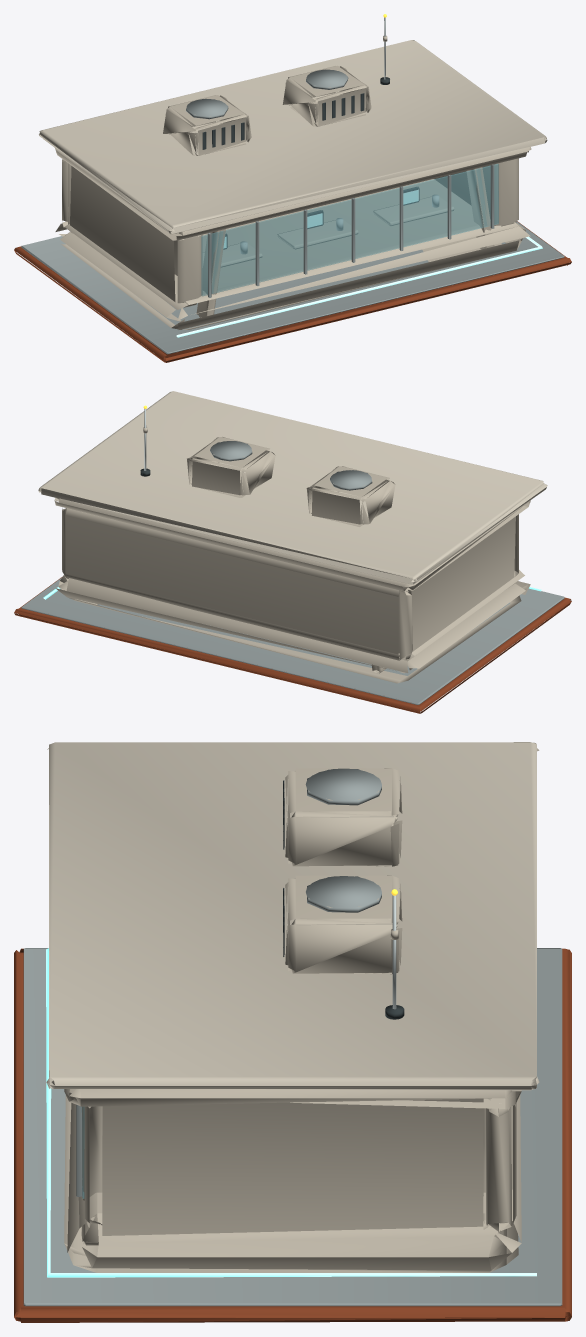
Rendered from laboratory.glb.
3 views of the same model, one above another, from view 1: azimuth 30°, elevation 25°; view 2: azimuth 150°, elevation 25°; view 3: azimuth 270°, elevation 25° (orthographic). The views are drawn at different scales.
Parts seen in each view (by area): view 1: laboratory; view 2: laboratory; view 3: laboratory.
Part boxes in pixels (<box>): laboratory: <box>14,14,571,362</box>; laboratory: <box>14,391,571,713</box>; laboratory: <box>14,742,571,1322</box>.
Bounding box in the file's own units: 12 × 5.53 × 7.75.
